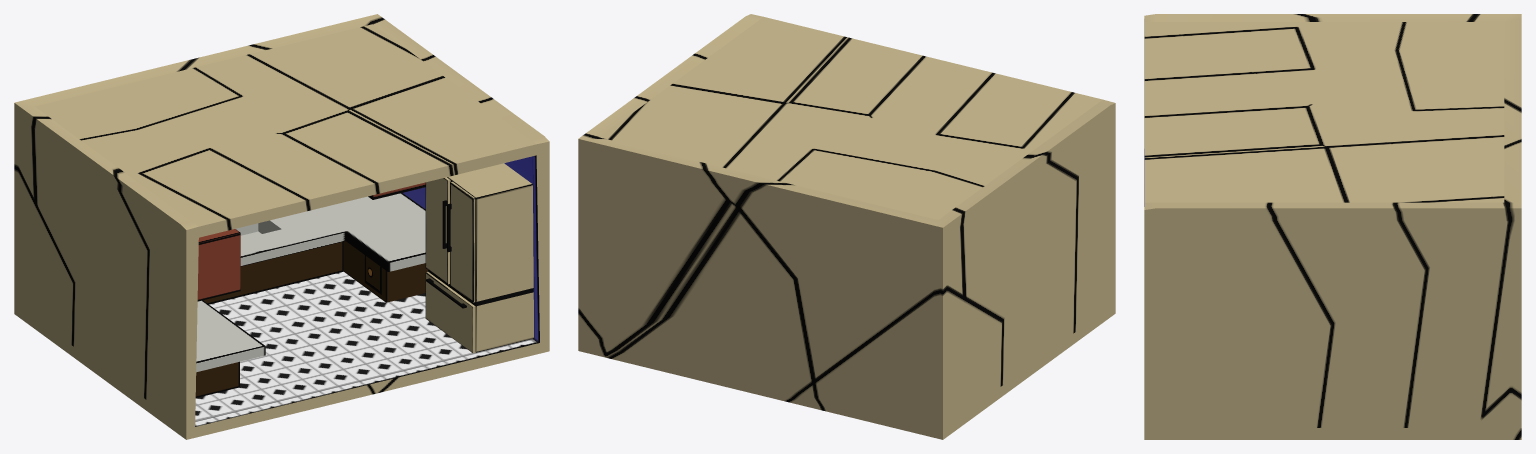
The model's file is kitchen_room.obj.
3 renders of one model, left to right at view 1: azimuth 30°, elevation 25°; view 2: azimuth 150°, elevation 25°; view 3: azimuth 270°, elevation 25°, orthographic. The views are drawn at different scales.
Parts seen in each view (by area): view 1: kitchen_room_box, fridge, sink, long_cabinet, left_bottom_cabinet, right_bottom_cabinet; view 2: kitchen_room_box; view 3: kitchen_room_box.
Part boxes in pixels (bbox=[...]): kitchen_room_box: bbox=[14, 14, 549, 439]; fridge: bbox=[425, 163, 533, 353]; sink: bbox=[196, 193, 425, 372]; long_cabinet: bbox=[197, 229, 240, 301]; left_bottom_cabinet: bbox=[343, 241, 427, 302]; right_bottom_cabinet: bbox=[195, 361, 239, 397]; kitchen_room_box: bbox=[578, 14, 1115, 439]; kitchen_room_box: bbox=[1144, 14, 1521, 439].
Bounding box in the file's own units: 1136 × 631 × 931.
10 materials, 6 textured.
